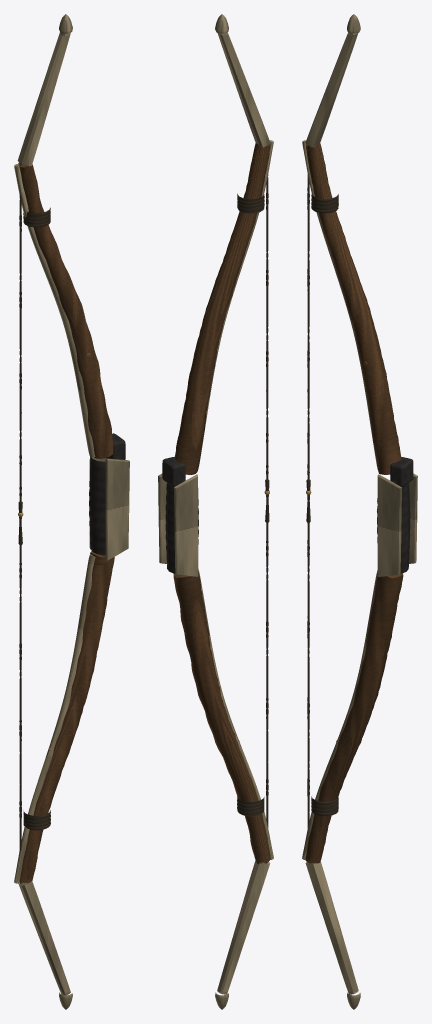
Rendered from composite-bow.lod1.glb.
3 renders of one model, left to right at view 1: azimuth 30°, elevation 25°; view 2: azimuth 210°, elevation 25°; view 3: azimuth 330°, elevation 25°, orthographic.
Parts seen in each view (by area): view 1: wood / oiled hardwood, horn / polished horn and bone, cord / waxed silk cord wrap, leather / oiled leather wrap; view 2: wood / oiled hardwood, horn / polished horn and bone, cord / waxed silk cord wrap, leather / oiled leather wrap; view 3: wood / oiled hardwood, horn / polished horn and bone, cord / waxed silk cord wrap, leather / oiled leather wrap.
Part boxes in pixels (x1,y1,x2,y2): wood / oiled hardwood: (18,162,114,883); horn / polished horn and bone: (14,14,129,1009); cord / waxed silk cord wrap: (18,163,50,883); leather / oiled leather wrap: (89,433,125,555); wood / oiled hardwood: (173,143,270,864); horn / polished horn and bone: (158,14,273,1009); cord / waxed silk cord wrap: (237,174,269,827); leather / oiled leather wrap: (162,457,198,573); wood / oiled hardwood: (305,143,403,863); horn / polished horn and bone: (302,14,417,1009); cord / waxed silk cord wrap: (306,174,338,828); leather / oiled leather wrap: (377,457,413,573).
Size of the model in its own units: 0.1561 by 1.39 by 0.045.
Materials: 7 (5 with a texture image).
